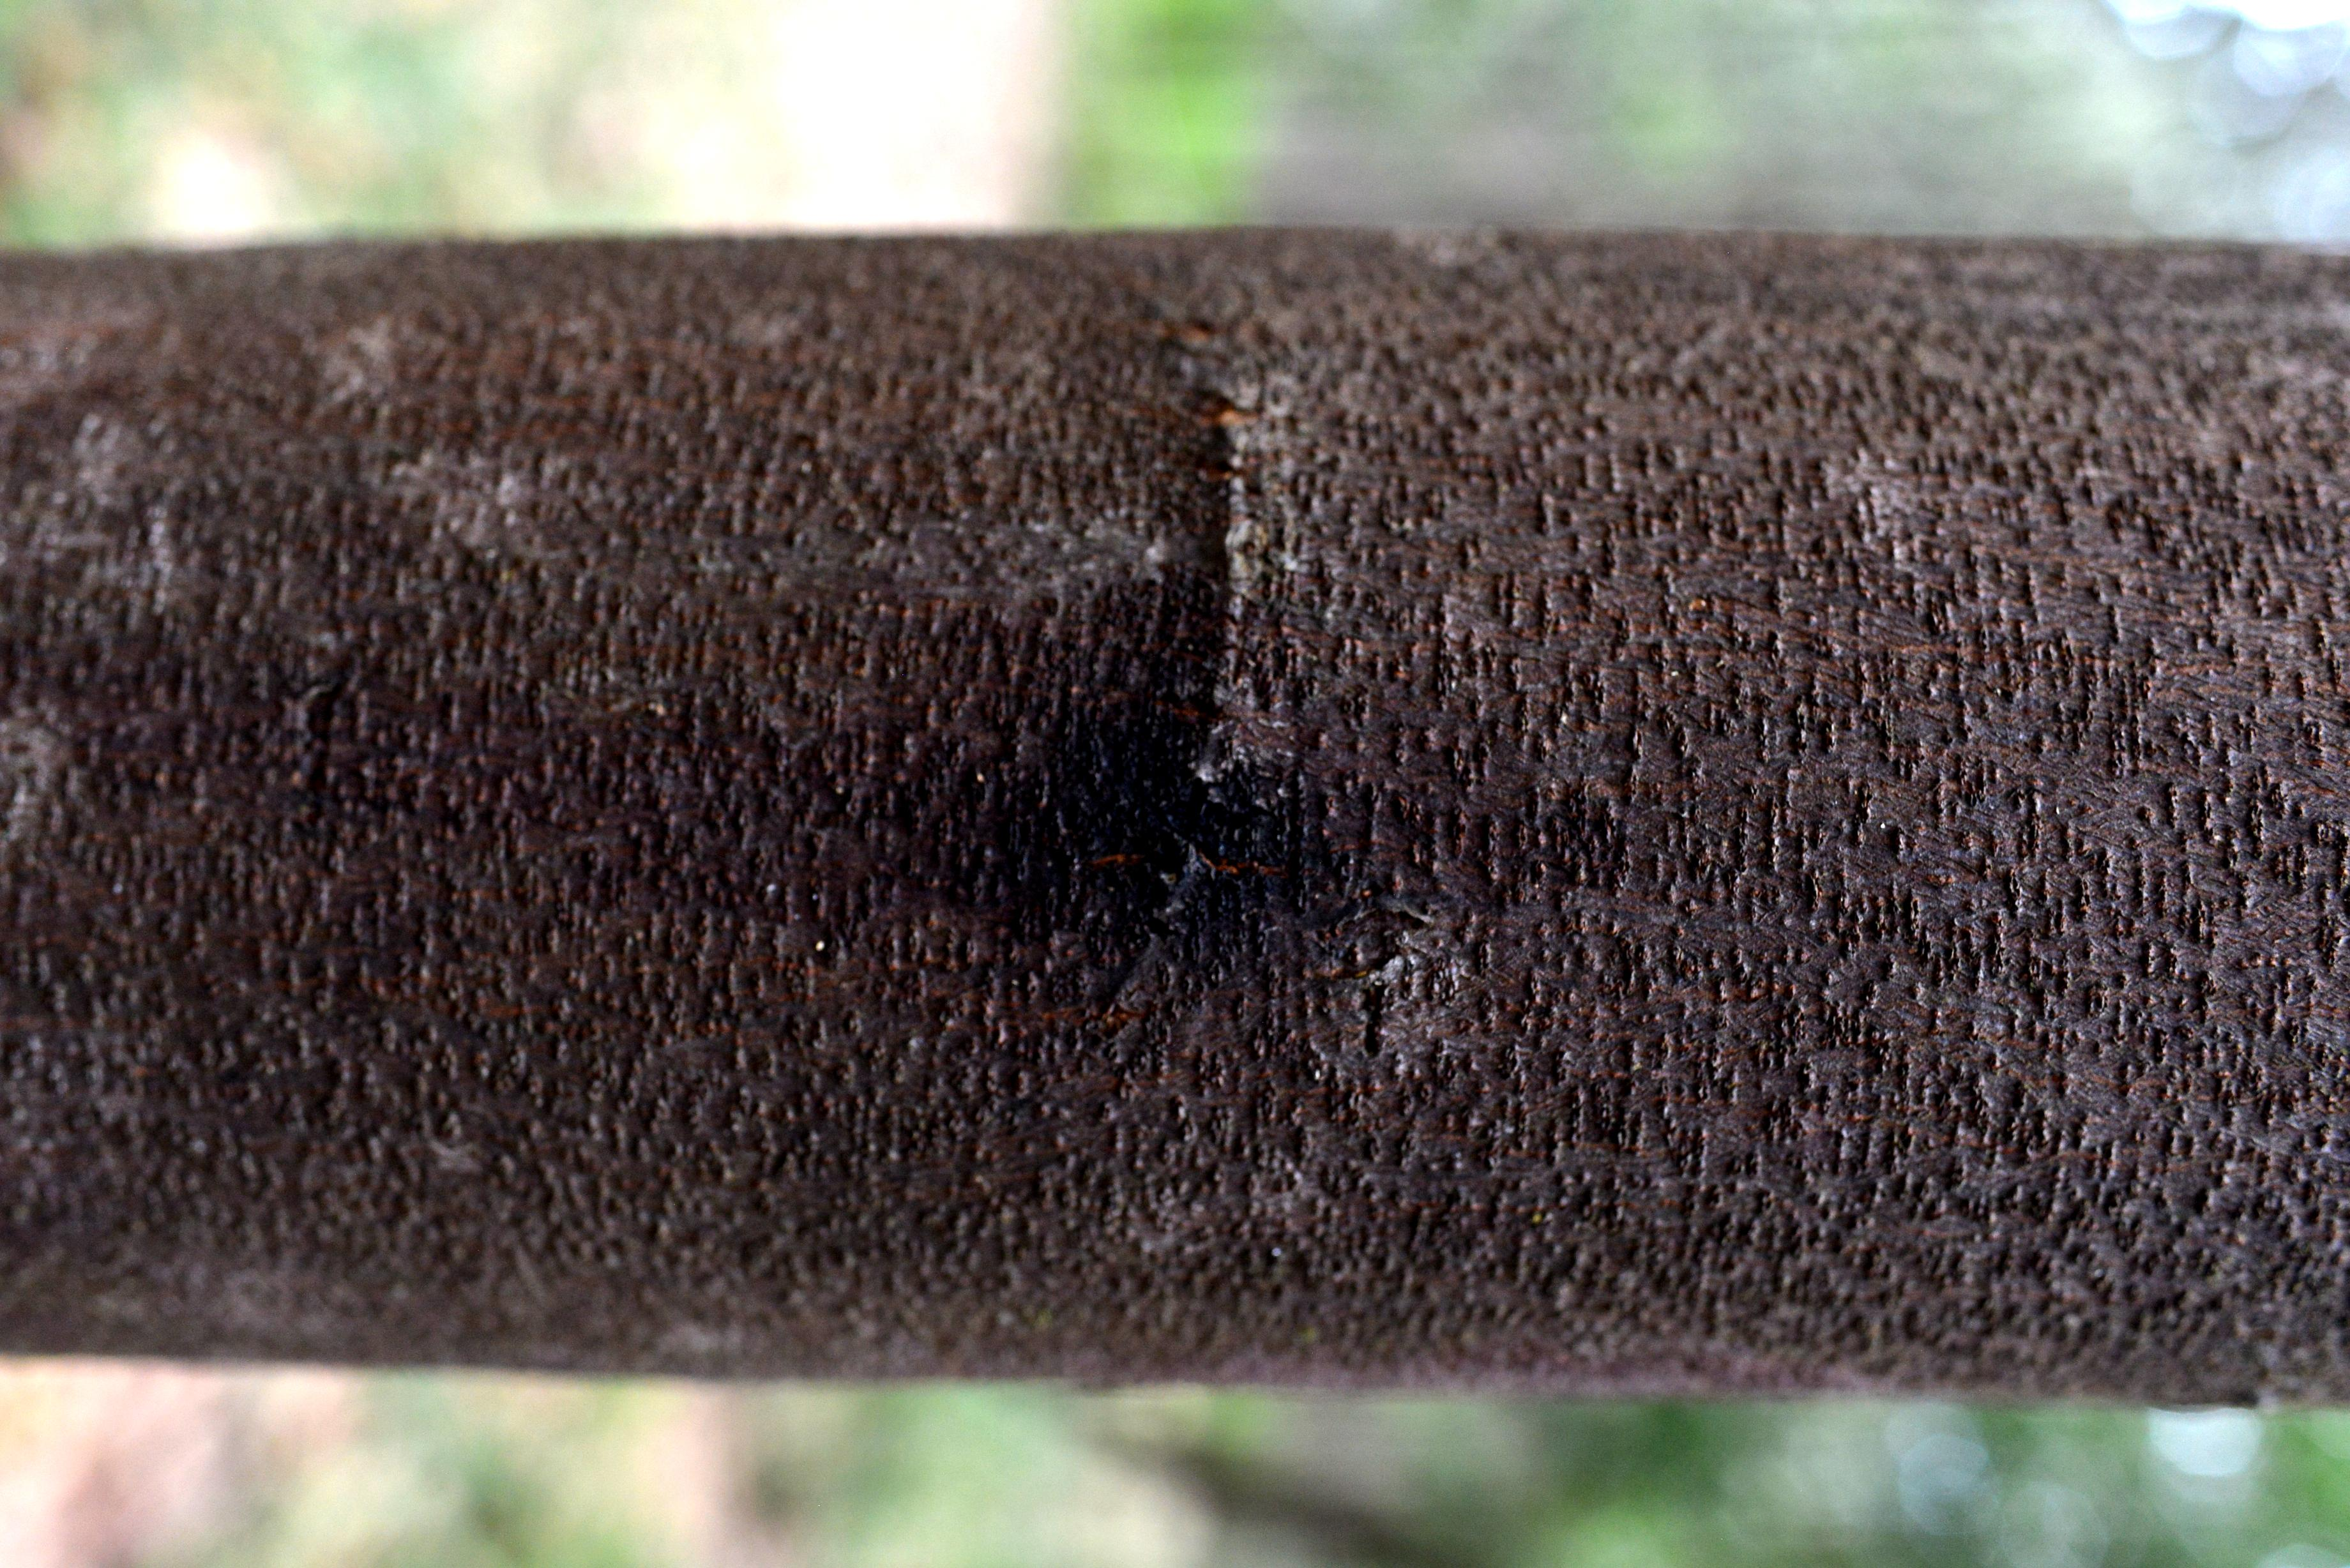Stem Borer: (908, 703, 1437, 982)
